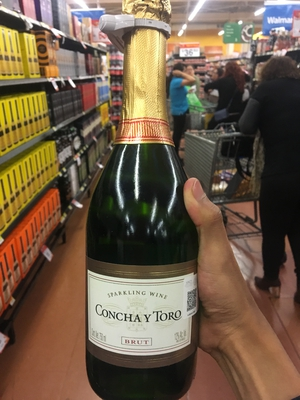brut: (78, 9, 207, 400)
